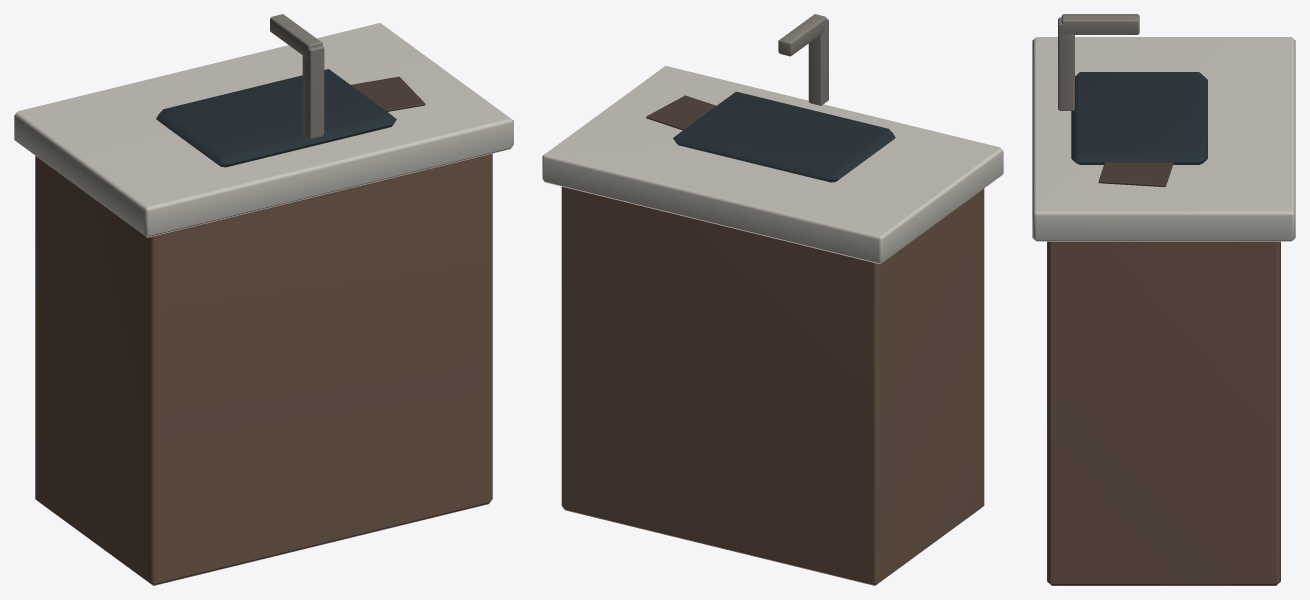
The model's file is prop_sink_old_01.glb.
The picture shows the model from 3 angles, left to right: view 1: azimuth 30°, elevation 25°; view 2: azimuth 150°, elevation 25°; view 3: azimuth 270°, elevation 25°; orthographic projection. The views are drawn at different scales.
Visible parts, largest first — view 1: sink_cabinet.001, sink_top_dirty.001, sink_basin_dark.001, faucet_vertical.001, water_stain_sink.001, faucet_arm.001; view 2: sink_cabinet.001, sink_top_dirty.001, sink_basin_dark.001, faucet_vertical.001, water_stain_sink.001, faucet_arm.001; view 3: sink_cabinet.001, sink_top_dirty.001, sink_basin_dark.001, water_stain_sink.001, faucet_arm.001, faucet_vertical.001.
Boxes of the visible parts, <box> form: sink_cabinet.001: <box>35,153,492,585</box>; sink_top_dirty.001: <box>14,23,513,237</box>; sink_basin_dark.001: <box>156,69,396,167</box>; faucet_vertical.001: <box>302,45,324,138</box>; water_stain_sink.001: <box>351,76,425,111</box>; faucet_arm.001: <box>270,14,322,58</box>; sink_cabinet.001: <box>561,186,984,585</box>; sink_top_dirty.001: <box>542,65,1003,264</box>; sink_basin_dark.001: <box>673,91,895,182</box>; faucet_vertical.001: <box>808,18,828,105</box>; water_stain_sink.001: <box>646,95,716,130</box>; faucet_arm.001: <box>778,14,826,56</box>; sink_cabinet.001: <box>1047,241,1280,585</box>; sink_top_dirty.001: <box>1032,37,1295,241</box>; sink_basin_dark.001: <box>1071,72,1207,164</box>; water_stain_sink.001: <box>1098,162,1173,187</box>; faucet_arm.001: <box>1061,14,1139,34</box>; faucet_vertical.001: <box>1058,17,1074,110</box>.
Bounding box in the file's own units: 0.86 × 1.11 × 0.54.
